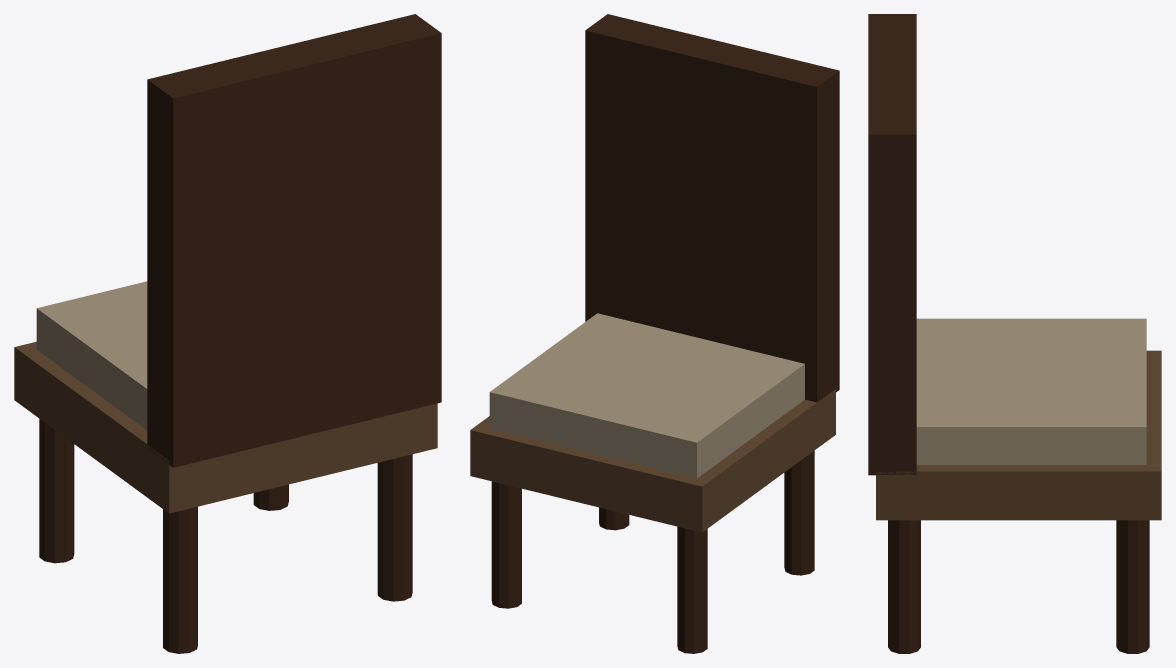
File: GalakasMidCity_INT_Chair_CushionedScribe_01.obj
3 renders of one model, left to right at view 1: azimuth 30°, elevation 25°; view 2: azimuth 150°, elevation 25°; view 3: azimuth 270°, elevation 25°, orthographic. The views are drawn at different scales.
Parts seen in each view (by area): view 1: back, seat, cushion, leg_0_38_0_38, leg_-0_38_0_38, leg_-0_38_-0_38, leg_0_38_-0_38; view 2: back, cushion, seat, leg_-0_38_-0_38, leg_0_38_-0_38, leg_-0_38_0_38, leg_0_38_0_38; view 3: cushion, back, seat, leg_0_38_-0_38, leg_0_38_0_38.
Part boxes in pixels (x1,y1,x2,y2): back: [147, 14, 441, 467]; seat: [14, 341, 437, 513]; cushion: [36, 281, 147, 430]; leg_0_38_0_38: [377, 454, 412, 601]; leg_-0_38_0_38: [163, 506, 197, 653]; leg_-0_38_-0_38: [39, 419, 74, 563]; leg_0_38_-0_38: [253, 484, 288, 510]; back: [585, 14, 839, 402]; cushion: [489, 313, 804, 478]; seat: [470, 389, 835, 532]; leg_-0_38_-0_38: [677, 526, 707, 653]; leg_0_38_-0_38: [491, 481, 521, 608]; leg_-0_38_0_38: [784, 450, 814, 575]; leg_0_38_0_38: [599, 507, 629, 530]; cushion: [916, 318, 1146, 464]; back: [868, 14, 916, 475]; seat: [876, 350, 1161, 520]; leg_0_38_-0_38: [1116, 520, 1149, 653]; leg_0_38_0_38: [888, 520, 920, 653].
Bounding box in the file's own units: 0.95 × 1.93 × 0.975.
